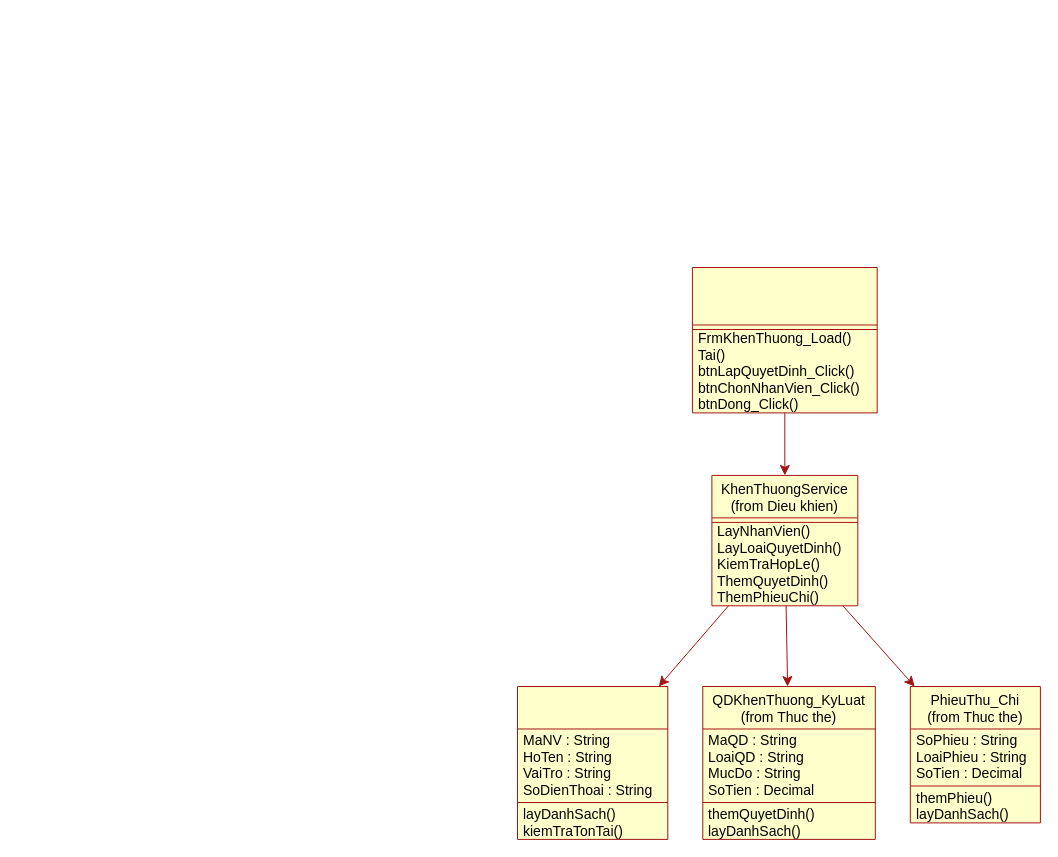
The diagram is 1058 pixels wide and 857 high, and some of its shapes have lost their labels. Each missing label, with the box of its shape:
NhanVien (from Thuc the): (516, 686, 668, 839)
«boundary» FrmKhenThuong (from Giao dien): (691, 266, 877, 413)
